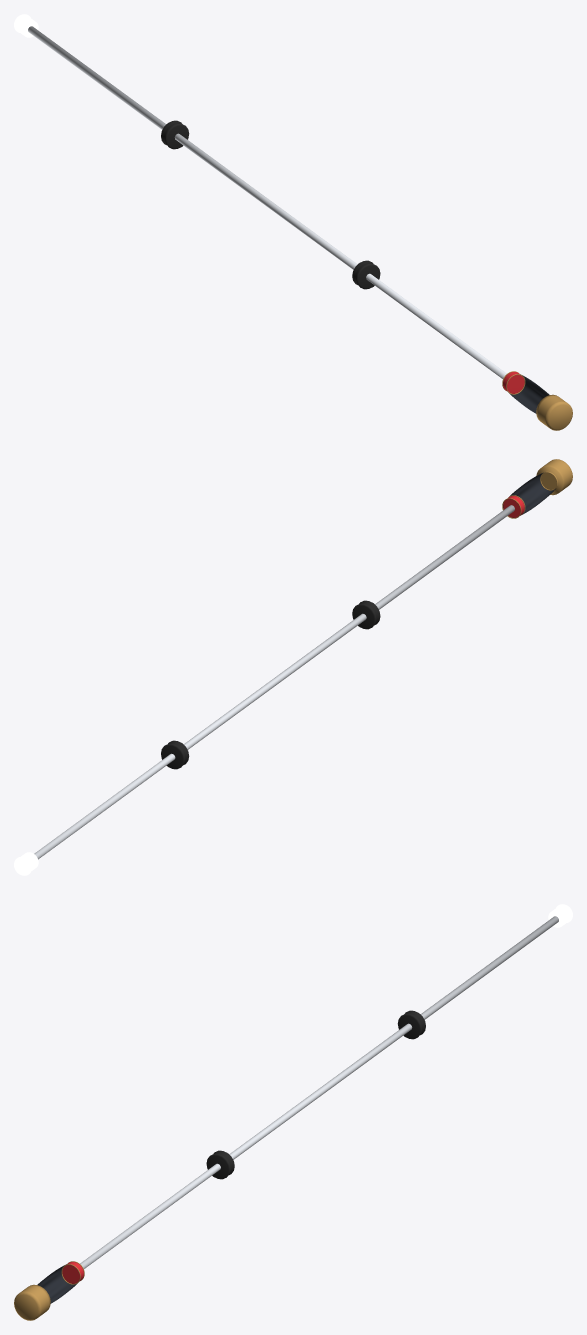
Rendered from fuzeball_rod_3man.glb.
3 renders of one model, top to bottom at view 1: azimuth 30°, elevation 25°; view 2: azimuth 150°, elevation 25°; view 3: azimuth 330°, elevation 25°, orthographic.
Visible parts, largest first — view 1: rod2_bar.002, rod2_knob.002, rod3_handle_comet_grip, CylinderR, CylinderL; view 2: rod2_bar.002, rod3_handle_comet_grip, rod2_knob.002, CylinderR, CylinderL; view 3: rod2_bar.002, rod2_knob.002, rod3_handle_comet_grip, CylinderR, CylinderL.
Part boxes in pixels (x1,y1,x2,y2): rod2_bar.002: (28, 26, 506, 378); rod2_knob.002: (536, 394, 572, 430); rod3_handle_comet_grip: (509, 374, 549, 413); CylinderR: (161, 120, 189, 149); CylinderL: (352, 260, 380, 289); rod2_bar.002: (34, 505, 514, 859); rod3_handle_comet_grip: (503, 472, 555, 517); rod2_knob.002: (536, 459, 572, 495); CylinderR: (161, 740, 189, 769); CylinderL: (352, 600, 380, 629); rod2_bar.002: (80, 916, 558, 1268); rod2_knob.002: (14, 1284, 50, 1320); rod3_handle_comet_grip: (37, 1264, 77, 1303); CylinderR: (397, 1010, 425, 1039); CylinderL: (206, 1150, 234, 1179).
Size of the model in its own units: 3.4 by 3.4 by 118.
